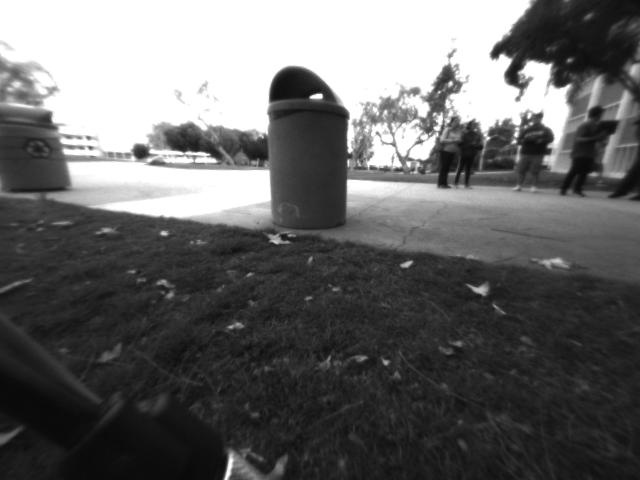trashcan: (267, 67, 352, 232)
